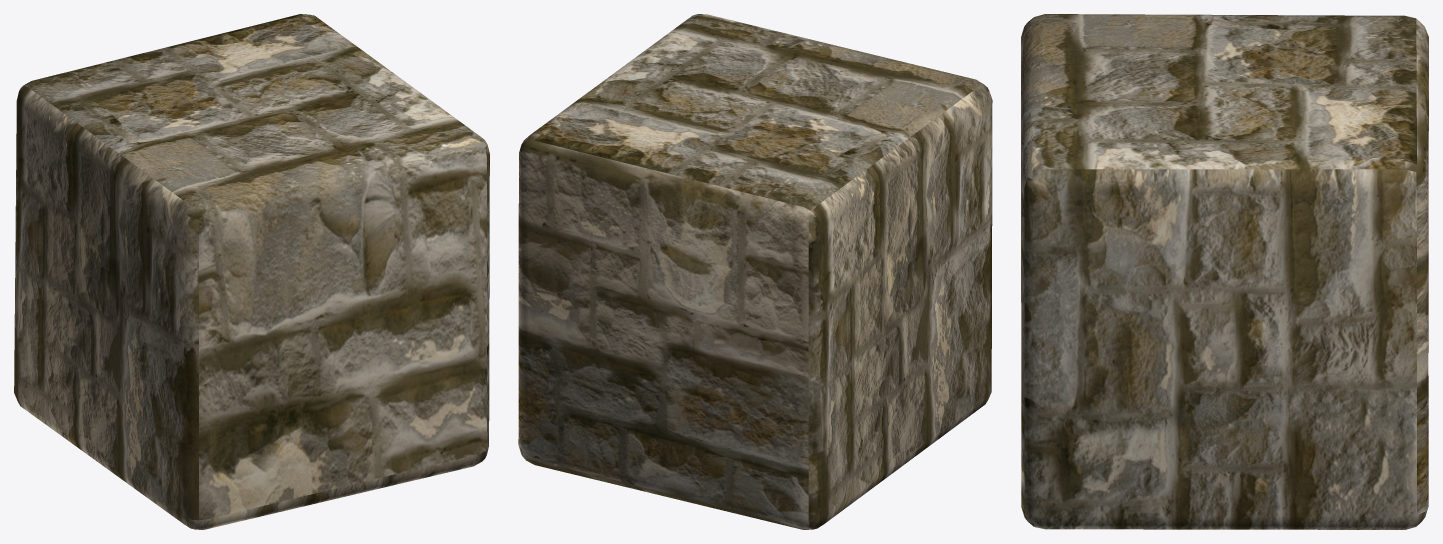
Rendered from stone_block_a.glb.
The picture shows the model from 3 angles, left to right: view 1: azimuth 30°, elevation 25°; view 2: azimuth 150°, elevation 25°; view 3: azimuth 270°, elevation 25°; orthographic projection. The views are drawn at different scales.
Visible parts, largest first — view 1: stone_block_a; view 2: stone_block_a; view 3: stone_block_a.
Part boxes in pixels (left/top/right/bottom): stone_block_a: left=14, top=14, right=489, bottom=529; stone_block_a: left=518, top=14, right=992, bottom=529; stone_block_a: left=1021, top=14, right=1428, bottom=529.
Size of the model in its own units: 1.79 by 1.85 by 1.86.
1 material, 1 textured.
